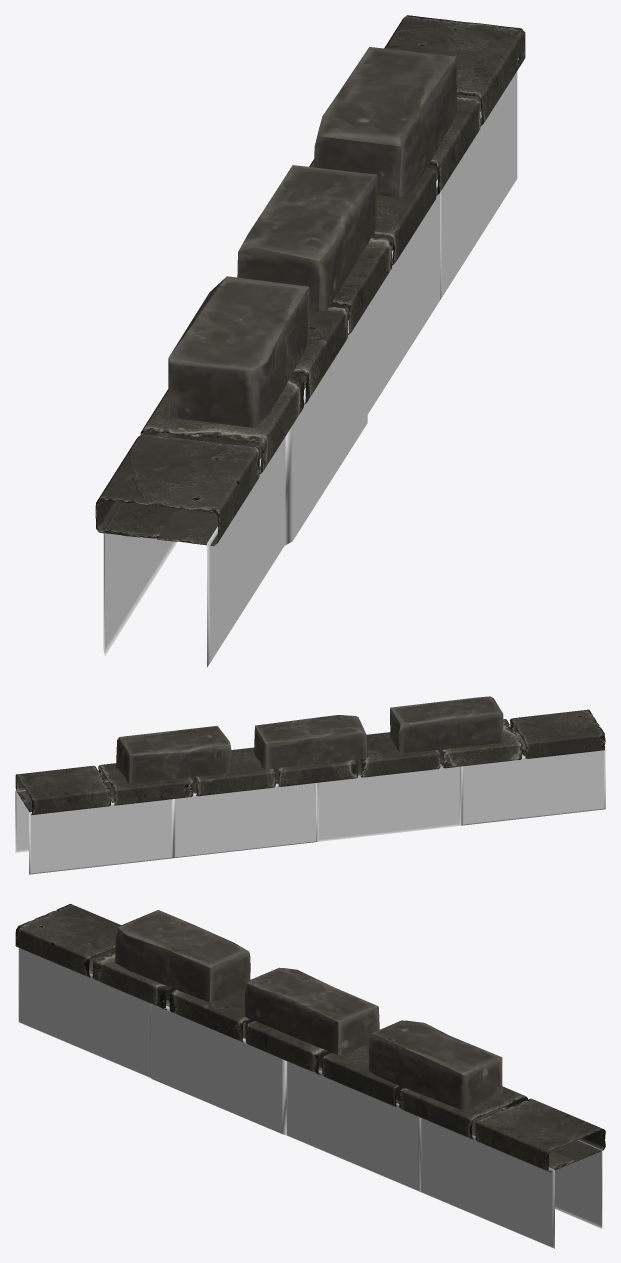
The picture shows the model from 3 angles, top to bottom: view 1: azimuth 30°, elevation 25°; view 2: azimuth 150°, elevation 25°; view 3: azimuth 270°, elevation 25°; orthographic projection. The views are drawn at different scales.
Visible parts, largest first — view 1: SM_Greathall_Wall_Top_45_8x2_01_LOD0; view 2: SM_Greathall_Wall_Top_45_8x2_01_LOD0; view 3: SM_Greathall_Wall_Top_45_8x2_01_LOD0.
Part boxes in pixels (left/top/right/bottom): SM_Greathall_Wall_Top_45_8x2_01_LOD0: left=95, top=15, right=525, bottom=667; SM_Greathall_Wall_Top_45_8x2_01_LOD0: left=15, top=696, right=605, bottom=874; SM_Greathall_Wall_Top_45_8x2_01_LOD0: left=15, top=904, right=605, bottom=1248.
Bounding box in the file's own units: 8.85 × 2.25 × 8.85.
3 materials, 2 textured.
